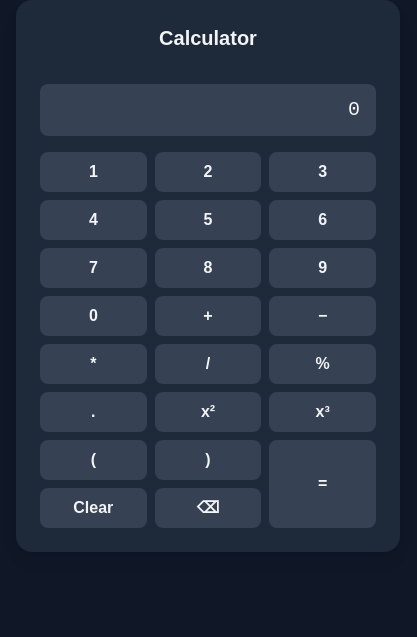
Test: Calculator › handles division by zero
Click the button "1": (93, 172) [40,152,147,192]
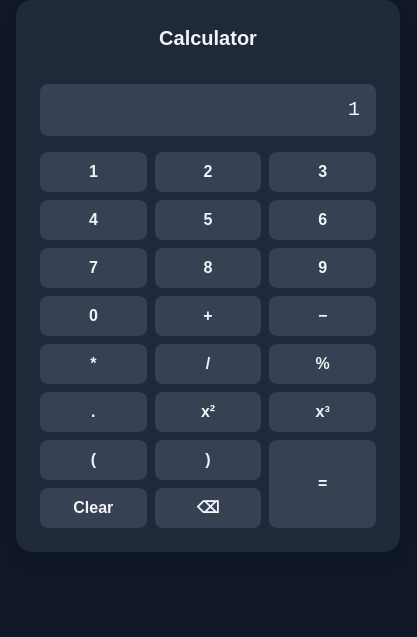
Click the button "2": (208, 172) [155,152,261,192]
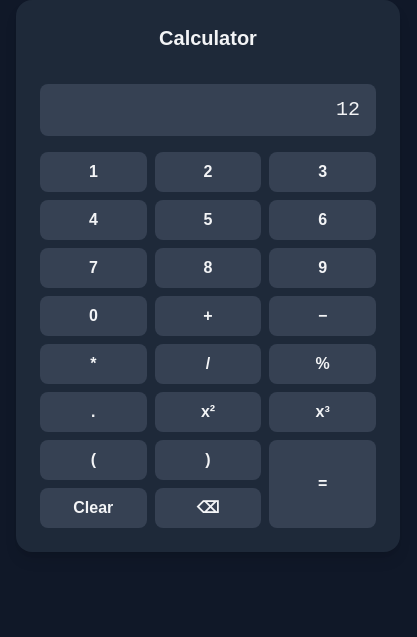
Click the button "/": (208, 364) [155,344,261,384]
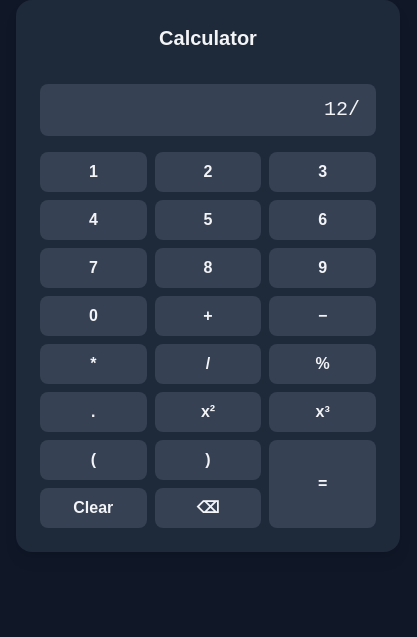
Click the button "0": (93, 316) [40,296,147,336]
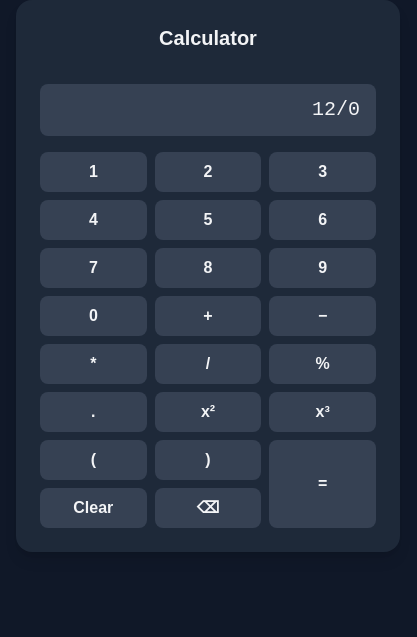
Click the button with test id "=": (323, 484) [269,440,376,528]
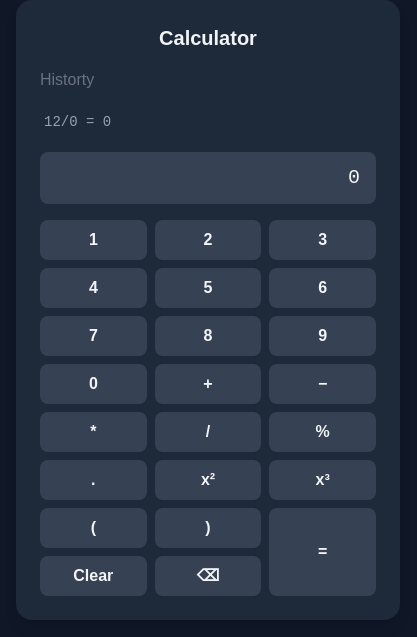
Expected: the text with test id "display" reads "0", [348,166,360,189]
